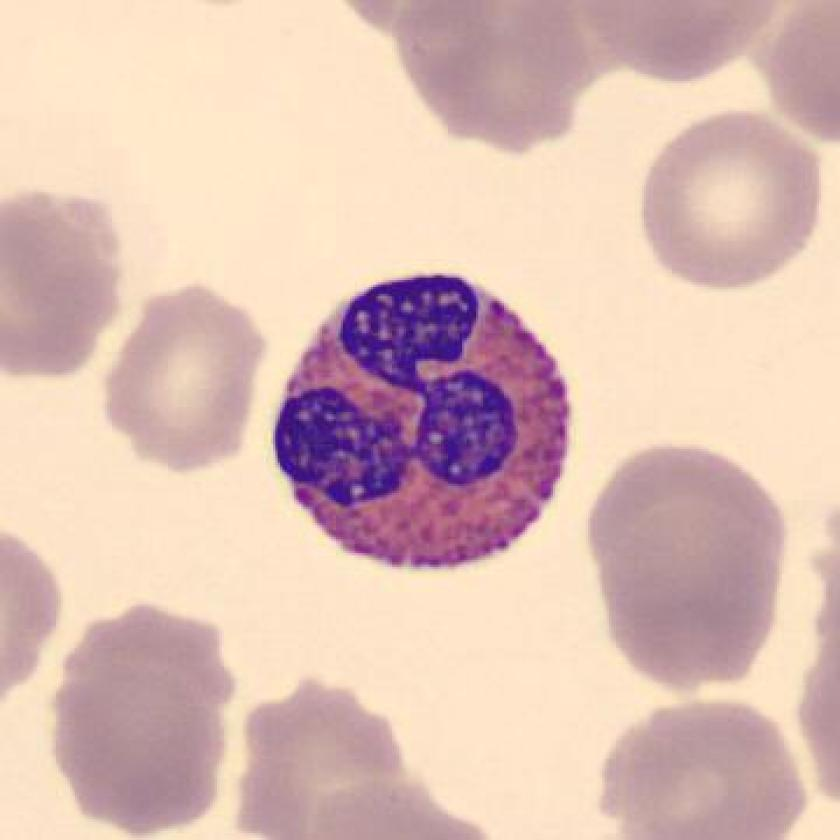eosinophil: (262, 263, 589, 580)
